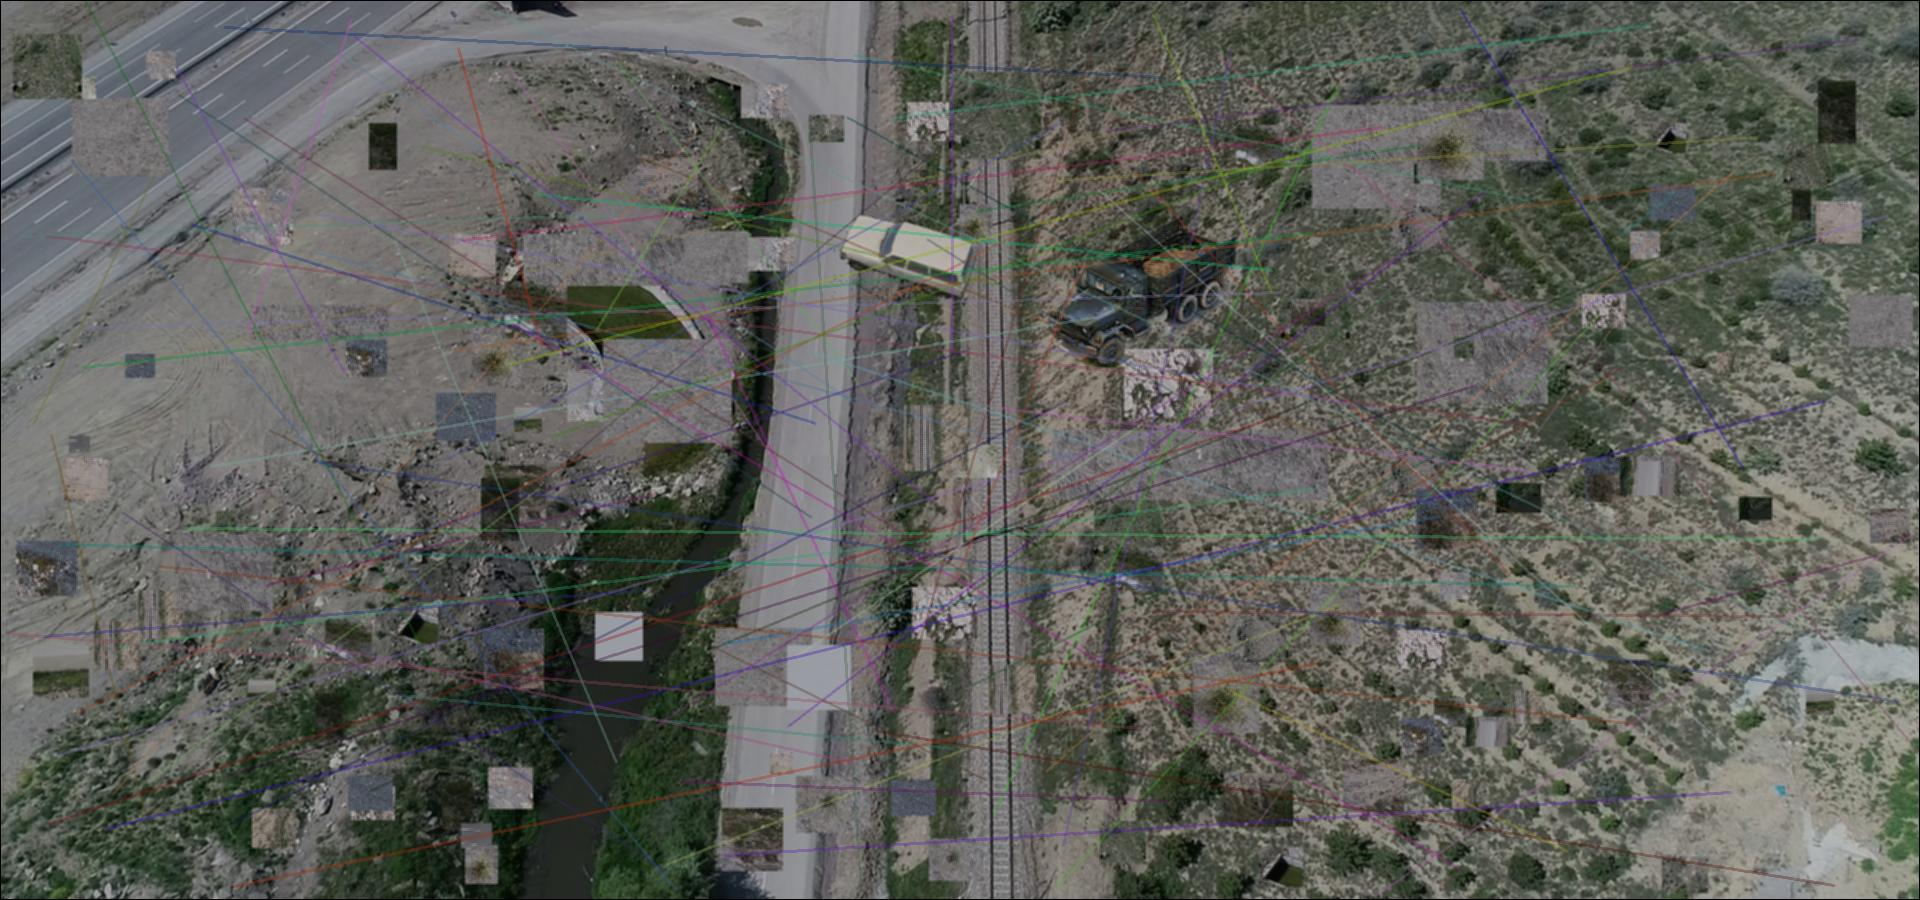arac: (1049, 212, 1237, 369), (830, 211, 977, 304)
